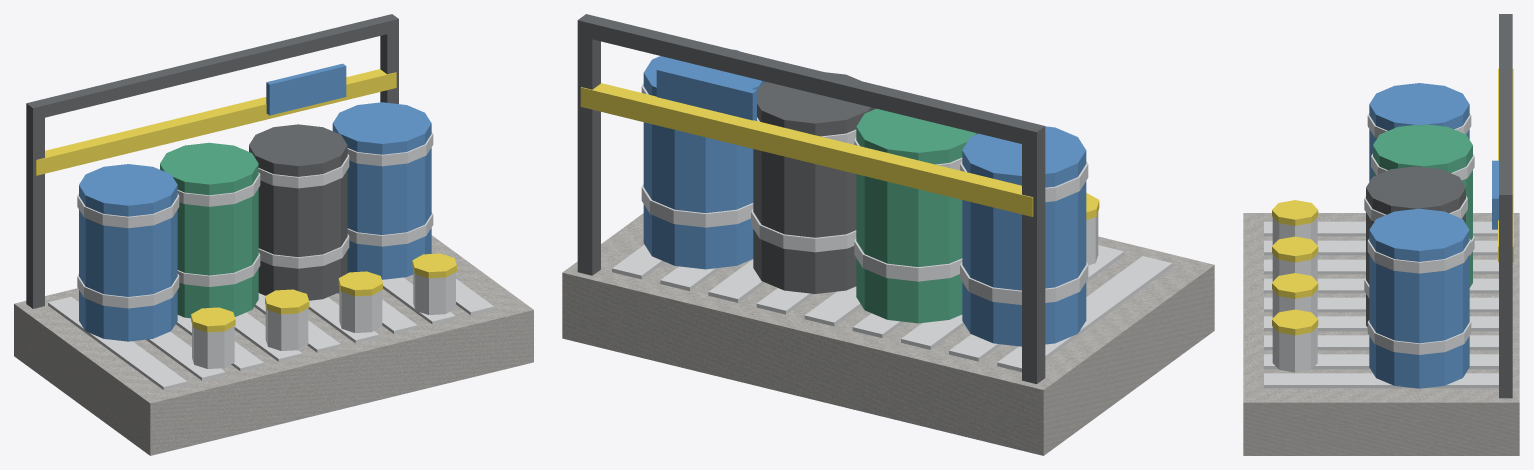
The picture shows the model from 3 angles, left to right: view 1: azimuth 30°, elevation 25°; view 2: azimuth 150°, elevation 25°; view 3: azimuth 270°, elevation 25°; orthographic projection. The views are drawn at different scales.
Visible parts, largest first — view 1: recycling-and-waste-transfer-yard-oil-and-paint-drum-bay; view 2: recycling-and-waste-transfer-yard-oil-and-paint-drum-bay; view 3: recycling-and-waste-transfer-yard-oil-and-paint-drum-bay.
Boxes of the visible parts, box(x1,y1,x2,y2) form: recycling-and-waste-transfer-yard-oil-and-paint-drum-bay: box(14, 14, 533, 455); recycling-and-waste-transfer-yard-oil-and-paint-drum-bay: box(562, 14, 1214, 455); recycling-and-waste-transfer-yard-oil-and-paint-drum-bay: box(1243, 14, 1519, 455).
Size of the model in its own units: 2.6 by 1.64 by 1.6.
Materials: 6 (1 with a texture image).
